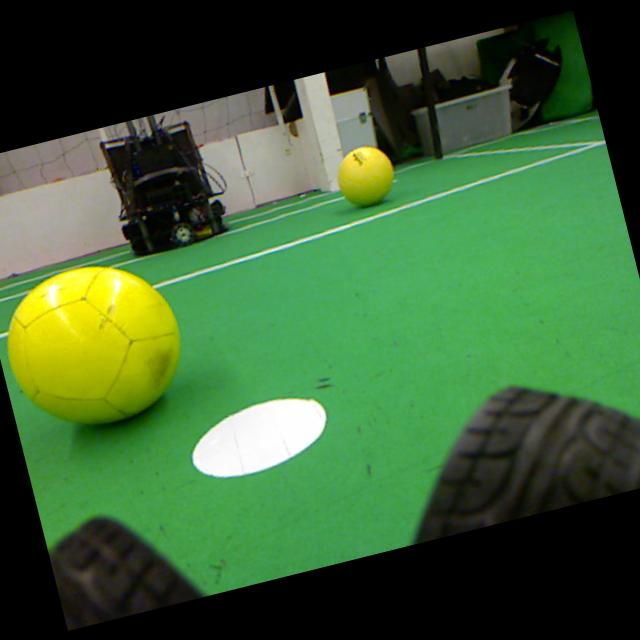ball: (7, 267, 180, 424), (338, 147, 393, 205)
goal: (303, 72, 344, 192)
robot: (99, 115, 229, 256)
